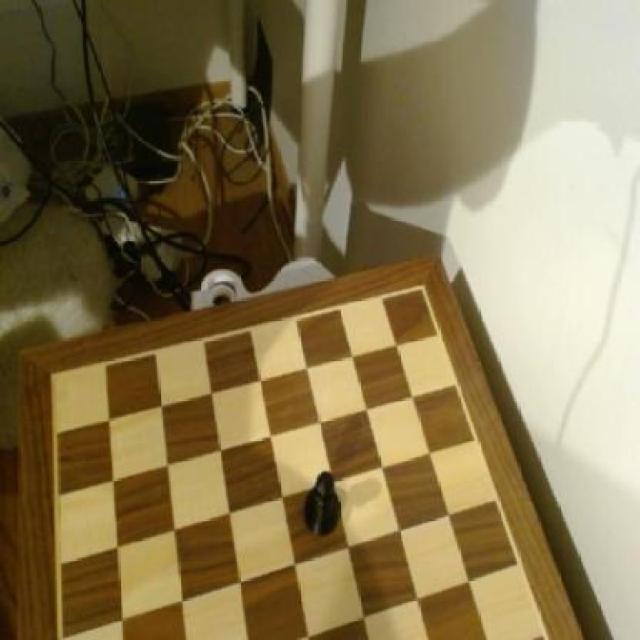black-knight: (301, 460, 344, 543)
